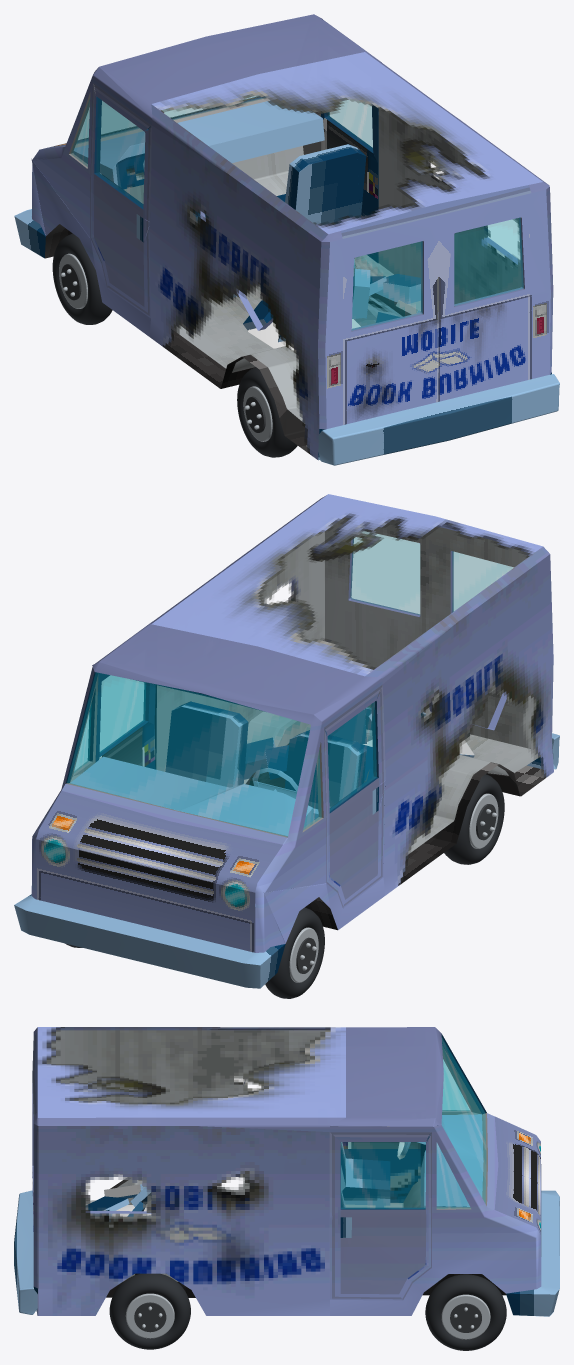
The model's file is car-bookb_v.glb.
The picture shows the model from 3 angles, top to bottom: view 1: azimuth 30°, elevation 25°; view 2: azimuth 150°, elevation 25°; view 3: azimuth 270°, elevation 25°; orthographic projection. The views are drawn at different scales.
Visible parts, largest first — view 1: backShape, DwallShape.002, bookb_vShape.003, bookb_vShape.006, roofShape.002, backShape.004, TrunkRotShape.001, PwallShape.003, bookb_vShape.002, DoorDRotShape.011, DoorDRotShape.010, bookb_vShape (+16 smaller); view 2: bookb_vShape.003, bookb_vShape.005, bookb_vShape.006, DwallShape.002, roofShape.002, bookb_vShape.001, backShape.002, HoodRotShape.003, DoorDRotShape.011, backShape.004, PwallShape.003, bookb_vShape.002 (+13 smaller); view 3: PwallShape.002, bookb_vShape.006, DwallShape.004, roofShape.002, bookb_vShape.003, DoorPRotShape.012, DoorPRotShape.011, bookb_vShape.005, HoodRotShape.003, roofShape.001, Rounded tire.009, Rounded tire.008 (+12 smaller).
Part boxes in pixels (box(x1,y1,x2,y2)): backShape: box(325, 189, 550, 428); DwallShape.002: box(149, 125, 321, 459); bookb_vShape.003: box(14, 85, 551, 460); bookb_vShape.006: box(31, 14, 381, 336); roofShape.002: box(151, 52, 542, 234); backShape.004: box(352, 218, 523, 330); TrunkRotShape.001: box(318, 374, 559, 465); PwallShape.003: box(378, 107, 521, 303); bookb_vShape.002: box(124, 146, 420, 423); DoorDRotShape.011: box(90, 83, 151, 318); DoorDRotShape.010: box(96, 98, 144, 206); bookb_vShape: box(45, 224, 356, 453); bookb_vShape.003: box(14, 672, 540, 988); bookb_vShape.005: box(67, 672, 321, 836); bookb_vShape.006: box(31, 622, 385, 952); DwallShape.002: box(382, 554, 553, 895); roofShape.002: box(151, 494, 542, 676); bookb_vShape.001: box(35, 691, 508, 952); backShape.002: box(325, 517, 530, 748); HoodRotShape.003: box(36, 791, 282, 892); DoorDRotShape.011: box(324, 684, 386, 908); backShape.004: box(350, 531, 513, 614); PwallShape.003: box(156, 530, 324, 771); bookb_vShape.002: box(243, 711, 535, 854); PwallShape.002: box(33, 1124, 329, 1315); bookb_vShape.006: box(330, 1027, 541, 1315); DwallShape.004: box(46, 1030, 329, 1104); roofShape.002: box(37, 1027, 345, 1117); bookb_vShape.003: box(35, 1034, 559, 1316); DoorPRotShape.012: box(330, 1132, 431, 1300); DoorPRotShape.011: box(341, 1142, 425, 1208); bookb_vShape.005: box(437, 1038, 486, 1208); HoodRotShape.003: box(494, 1116, 540, 1233); roofShape.001: box(32, 1027, 345, 1131); Rounded tire.009: box(109, 1273, 190, 1349); Rounded tire.008: box(425, 1274, 506, 1350).
Size of the model in its own units: 2.32 by 2.45 by 5.13.
Materials: 15 (12 with a texture image).
